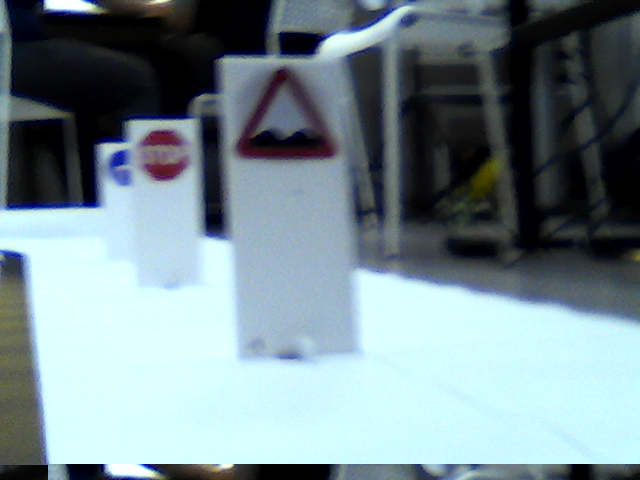Nerov: (237, 68, 337, 161)
Stop: (139, 130, 188, 182)
